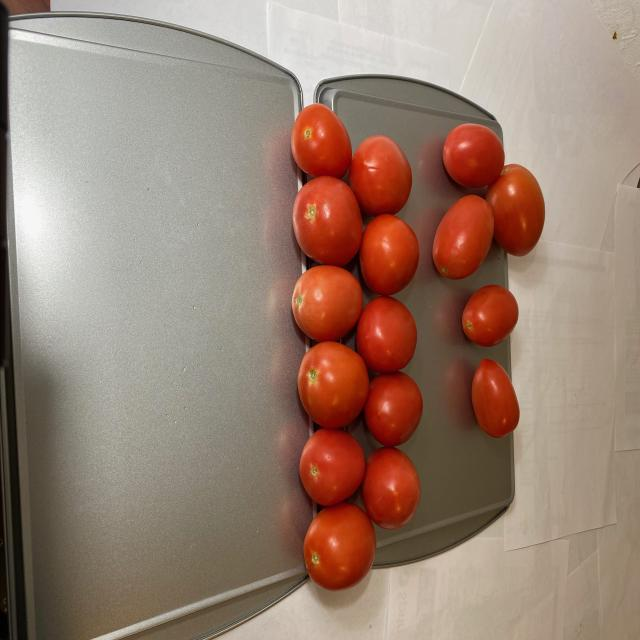tomato: (282, 102, 418, 598), (432, 122, 552, 462)
